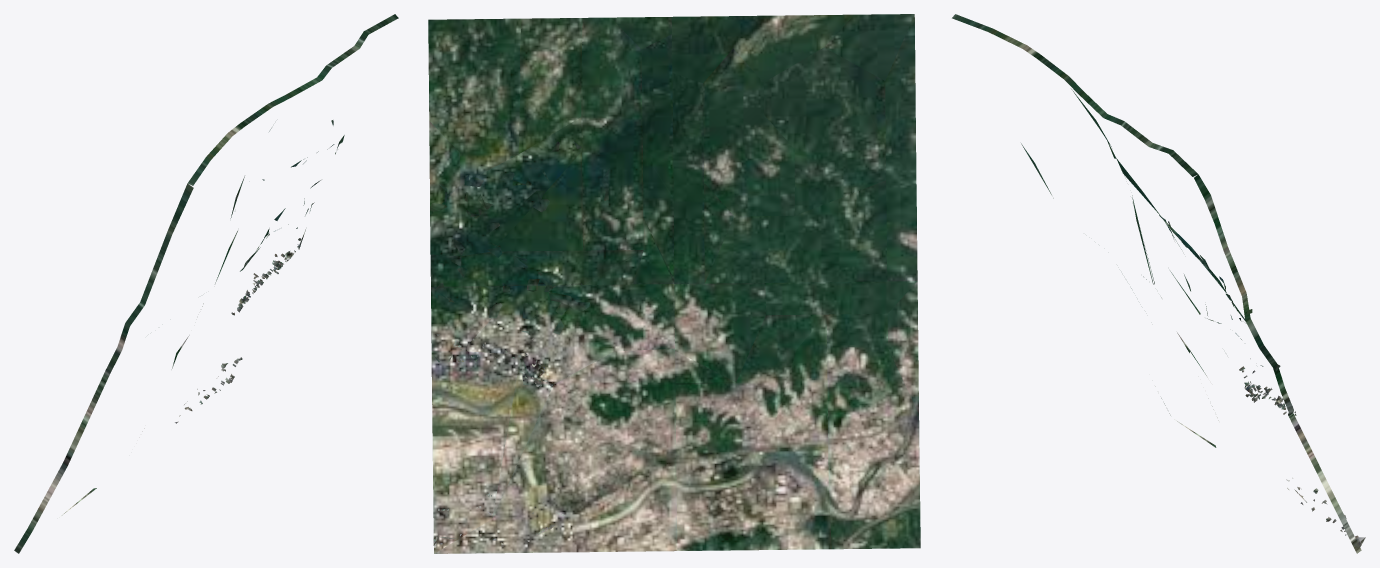
The picture shows the model from 3 angles, left to right: view 1: azimuth 30°, elevation 25°; view 2: azimuth 150°, elevation 25°; view 3: azimuth 270°, elevation 25°; orthographic projection. The views are drawn at different scales.
Bounding box in the file's own units: 9634 × 9163 × 8147.
Materials: 1 (1 with a texture image).
